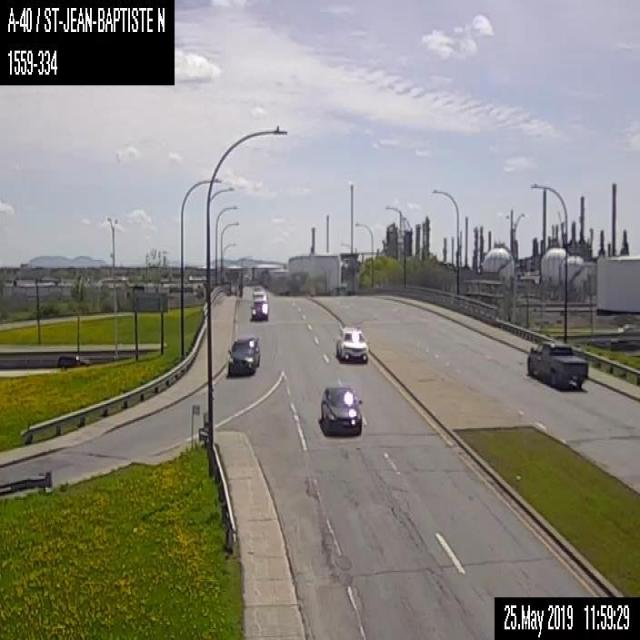vehicle: (526, 336, 588, 387), (319, 384, 363, 434), (227, 334, 260, 374), (336, 326, 368, 362), (56, 353, 86, 367), (250, 302, 268, 318), (252, 288, 266, 302)
